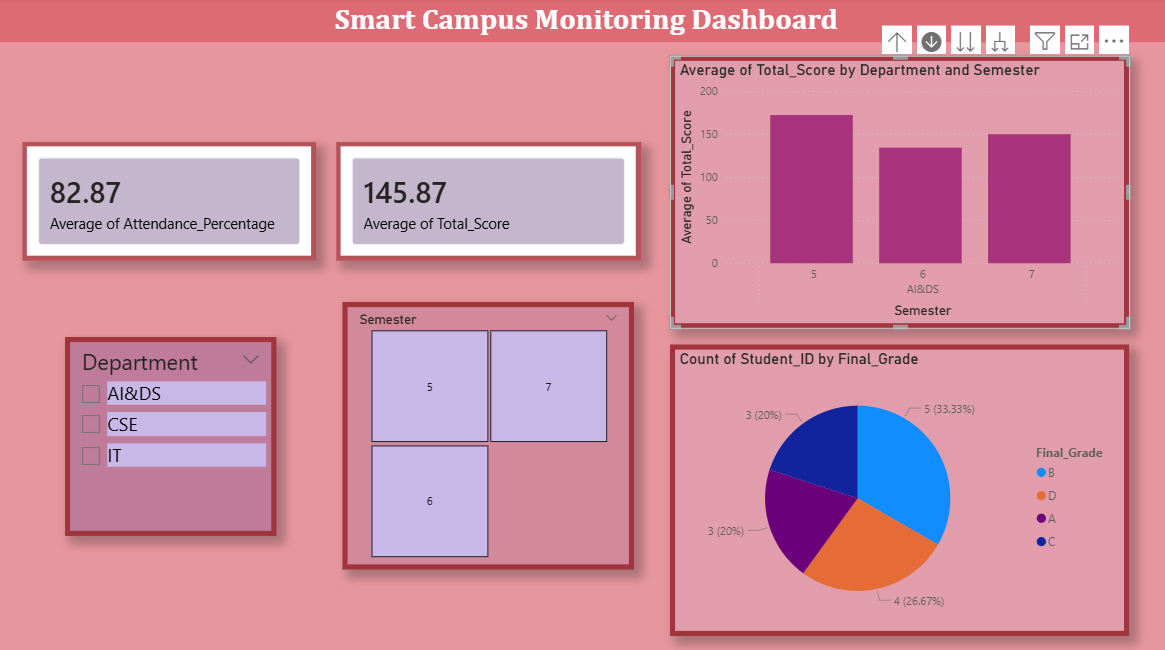

Layout of this report page (visuals, bound fields, positions):
{"tool":"powerbi","page":{"name":"Page 1","canvas":[1280,720],"ordinal":0},"visuals":[{"type":"textbox","box":[0,0,1280.3,49.4],"z":0},{"type":"cardVisual","fields":{"Data":["Avg(5 student_performance.Attendance_Percentage)"]},"box":[24.7,159.2,322.5,130.4],"z":1000},{"type":"cardVisual","fields":{"Data":["Avg(5 student_performance.Total_Score)"]},"box":[369.1,159.2,334.8,130.4],"z":2000},{"type":"slicer","fields":{"Values":["5 student_performance.Department"]},"box":[71.7,373.3,231.7,218.3],"z":3000},{"type":"slicer","fields":{"Values":["5 student_performance.Semester"]},"box":[376.7,335,320,293.3],"z":4000},{"type":"clusteredColumnChart","fields":{"Y":["Avg(5 student_performance.Total_Score)"],"Category":["5 student_performance.Department","5 student_performance.Semester","5 student_performance.Subject"]},"box":[735.9,63.9,504.3,299.2],"z":5000},{"type":"pieChart","fields":{"Category":["5 student_performance.Final_Grade"],"Y":["CountNonNull(5 student_performance.Student_ID)"]},"box":[735.9,381.2,504.3,319.7],"z":6000}]}

Visuals, with their boxes in screenshot pixels (x1, y1, x2, y2), scaled from the page's 1280x720 canvas onto the 1165x650 screenshot:
textbox: 0,0,1164,45
cardVisual - Avg(5 student_performance.Attendance_Percentage): 22,144,316,261
cardVisual - Avg(5 student_performance.Total_Score): 336,144,641,261
slicer - 5 student_performance.Department: 65,337,276,534
slicer - 5 student_performance.Semester: 343,302,634,567
clusteredColumnChart - Avg(5 student_performance.Total_Score) x 5 student_performance.Department: 670,58,1129,328
pieChart - 5 student_performance.Final_Grade x CountNonNull(5 student_performance.Student_ID): 670,344,1129,633
